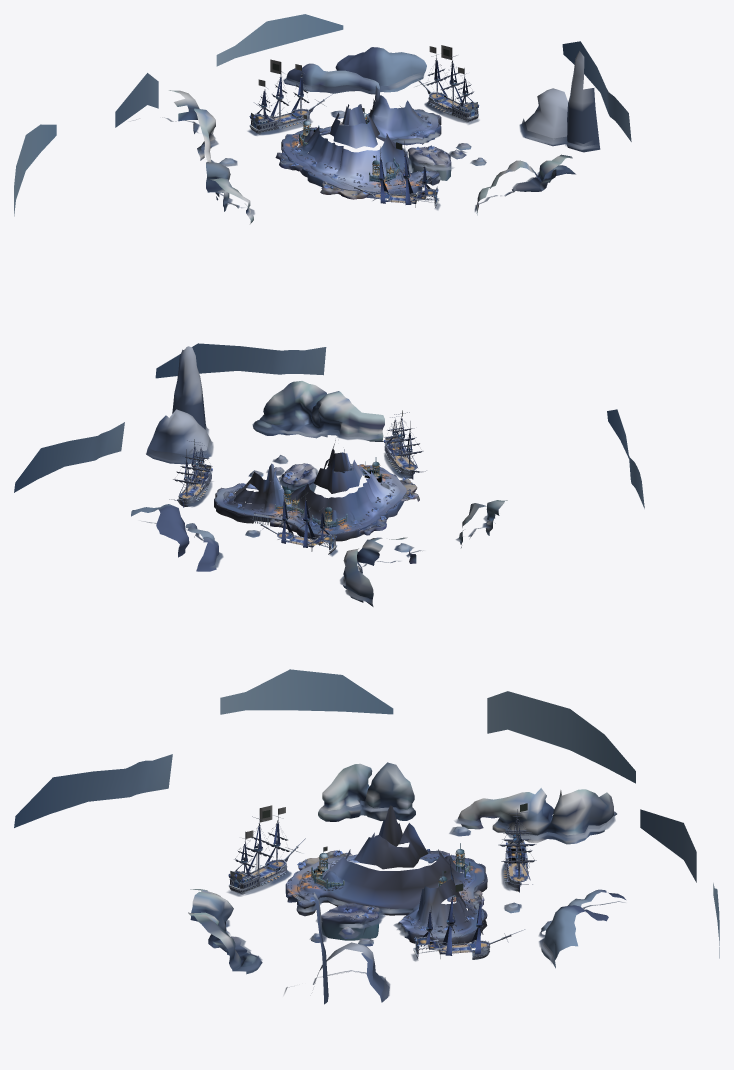
The model's file is PSAct2.gltf.
3 renders of one model, top to bottom at view 1: azimuth 30°, elevation 25°; view 2: azimuth 150°, elevation 25°; view 3: azimuth 270°, elevation 25°, orthographic. The views are drawn at different scales.
Parts seen in each view (by area): view 1: stg052_o_Mesh_0001, stg052_p_Mesh_0000, stg052_shibukib_a_01_Mesh_0001, stg052_shibukia_a_02_Mesh_0002, stg052_o03_Mesh_0008, stg052_o_Mesh_0003, stg052_p01_Mesh_0000, stg052_o01_Mesh_0001, stg052_o01_Mesh_0031, stg052_o01_Mesh_0028, stg052_p03_Mesh_0001, stg052_o03_Mesh_0014; view 2: stg052_o_Mesh_0001, stg052_p_Mesh_0000, stg052_shibukib_a_01_Mesh_0001, stg052_o_Mesh_0003, stg052_o03_Mesh_0008, stg052_shibukia_a_02_Mesh_0002, stg052_p01_Mesh_0000, stg052_o01_Mesh_0001, stg052_o01_Mesh_0028, stg052_p03_Mesh_0001, stg052_o01_Mesh_0025, stg052_o01_Mesh_0031; view 3: stg052_o_Mesh_0001, stg052_p_Mesh_0000, stg052_shibukib_a_01_Mesh_0001, stg052_shibukia_a_02_Mesh_0002, stg052_o03_Mesh_0008, stg052_o_Mesh_0003, stg052_p01_Mesh_0000, stg052_o01_Mesh_0001, stg052_o01_Mesh_0028, stg052_p03_Mesh_0001.
Boxes of the visible parts, x1,y1,x2,y2 form: stg052_o_Mesh_0001: (169,47,600,223); stg052_p_Mesh_0000: (14,14,631,216); stg052_shibukib_a_01_Mesh_0001: (162,75,597,216); stg052_shibukia_a_02_Mesh_0002: (132,73,592,211); stg052_o03_Mesh_0008: (249,54,478,207); stg052_o_Mesh_0003: (280,109,446,195); stg052_p01_Mesh_0000: (256,61,473,204); stg052_o01_Mesh_0001: (250,58,478,205); stg052_o01_Mesh_0031: (250,81,478,207); stg052_o01_Mesh_0028: (258,93,471,203); stg052_p03_Mesh_0001: (279,114,446,195); stg052_o03_Mesh_0014: (251,80,478,203); stg052_o_Mesh_0001: (131,346,507,606); stg052_p_Mesh_0000: (14,343,644,508); stg052_shibukib_a_01_Mesh_0001: (143,423,489,602); stg052_o_Mesh_0003: (216,464,415,535); stg052_o03_Mesh_0008: (169,412,426,551); stg052_shibukia_a_02_Mesh_0002: (146,421,492,602); stg052_p01_Mesh_0000: (178,419,417,547); stg052_o01_Mesh_0001: (178,416,418,551); stg052_o01_Mesh_0028: (180,442,416,547); stg052_p03_Mesh_0001: (217,464,414,534); stg052_o01_Mesh_0025: (174,428,421,533); stg052_o01_Mesh_0031: (179,435,413,554); stg052_o_Mesh_0001: (188,762,625,1004); stg052_p_Mesh_0000: (14,669,719,958); stg052_shibukib_a_01_Mesh_0001: (225,805,625,999); stg052_shibukia_a_02_Mesh_0002: (238,800,615,999); stg052_o03_Mesh_0008: (229,809,536,958); stg052_o_Mesh_0003: (287,849,484,938); stg052_p01_Mesh_0000: (235,820,530,955); stg052_o01_Mesh_0001: (229,816,527,957); stg052_o01_Mesh_0028: (237,846,527,954); stg052_p03_Mesh_0001: (286,850,485,938).
Size of the model in its own units: 1525 by 294 by 1353.
